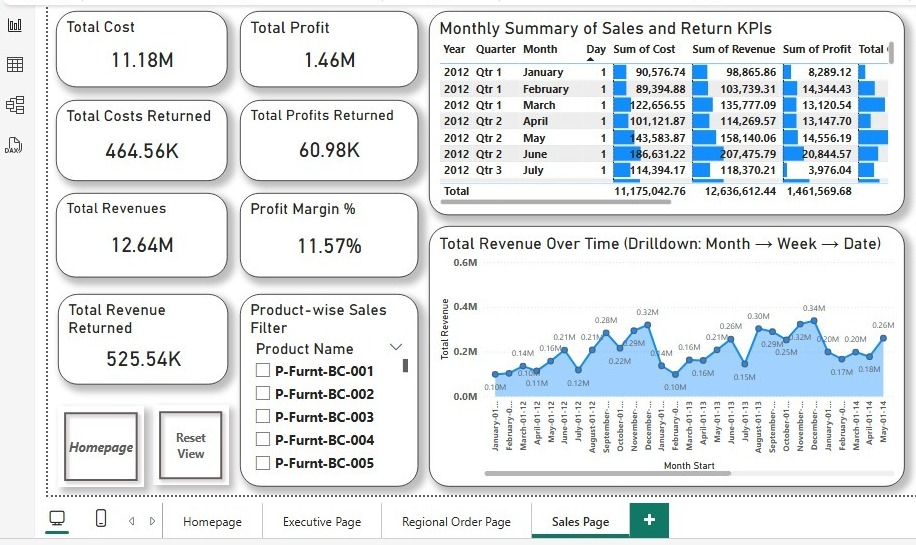

What the dashboard file says about the page in this screenshot:
{"tool":"powerbi","page":{"name":"Sales Page","canvas":[1280,720],"ordinal":3},"visuals":[{"type":"card","title":"Total Costs Returned","fields":{"Values":["return_table.Total Costs Returned"]},"box":[11.7,140.1,252.3,119.1],"z":0},{"type":"card","title":"Total Revenues","fields":{"Values":["sales.Total Revenue"]},"box":[11.7,275.6,252.3,123.8],"z":1000},{"type":"card","title":"Total Revenue Returned","fields":{"Values":["return_table.Total Revenue Returned"]},"box":[14,425.1,249.9,133.1],"z":2000},{"type":"card","title":"Total Cost","fields":{"Values":["sales.Total Cost"]},"box":[11.7,9.3,252.3,112.1],"z":3000},{"type":"card","title":"Total Profit","fields":{"Values":["sales.Total Profit"]},"box":[282.6,9.3,261.6,112.1],"z":4000},{"type":"card","title":"Total Profits Returned ","fields":{"Values":["return_table.Total Profits Returned"]},"box":[282.6,140.1,261.6,119.1],"z":5000},{"type":"card","title":"Profit Margin %","fields":{"Values":["sales.Profit Margin %"]},"box":[282.6,275.6,261.6,123.8],"z":6000},{"type":"tableEx","title":"Monthly Summary of Sales and Return KPIs","fields":{"Values":["Date.Start of Month.Variation.Date Hierarchy.Year","Date.Start of Month.Variation.Date Hierarchy.Quarter","Date.Start of Month.Variation.Date Hierarchy.Month","Date.Start of Month.Variation.Date Hierarchy.Day","Sum(sales.Cost)","Sum(sales.Revenue)","Sum(sales.Profit)","return_table.Total Costs Returned","return_table.Total Revenue Returned","return_table.Total Profits Returned","sales.Profit Margin %"]},"box":[559.6,8.9,699,300.3],"z":7000},{"type":"areaChart","title":"Total Revenue Over Time (Drilldown: Month → Week → Date)","fields":{"Category":["Date.Month Start Hierarchy.Month Start","Date.Month Start Hierarchy.Week Number","Date.Month Start Hierarchy.Order Date"],"Y":["sales.Total Revenue"]},"box":[559.6,325.4,699,382.6],"z":8000},{"type":"slicer","title":"Product-wise Sales Filter","fields":{"Values":["Product.Product Name"]},"box":[282.6,425.1,261.6,282.6],"z":9000},{"type":"actionButton","box":[14,588.6,126.1,119.1],"z":10000},{"type":"actionButton","box":[153.7,588.2,110.8,118],"z":11000}]}

Visuals, with their boxes in screenshot pixels (x1, y1, x2, y2):
"Total Costs Returned" card: (53,95,225,176)
"Total Revenues" card: (53,188,225,272)
"Total Revenue Returned" card: (55,289,225,380)
"Total Cost" card: (53,6,225,83)
"Total Profit" card: (238,6,416,83)
"Total Profits Returned " card: (238,95,416,176)
"Profit Margin %" card: (238,188,416,272)
"Monthly Summary of Sales and Return KPIs" tableEx: (426,6,902,210)
"Total Revenue Over Time (Drilldown: Month → Week → Date)" areaChart: (426,222,902,482)
"Product-wise Sales Filter" slicer: (238,289,416,482)
actionButton: (55,401,141,482)
actionButton: (150,400,225,481)
